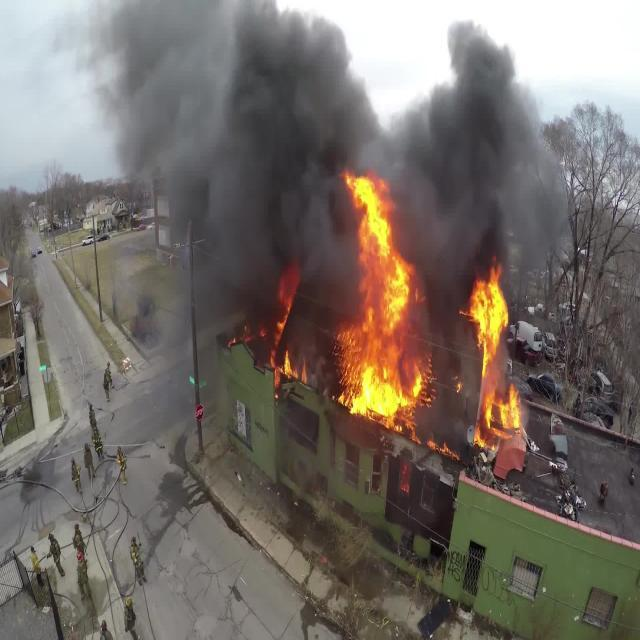Fire: (271, 164, 529, 450)
Smoke: (95, 0, 574, 408)
